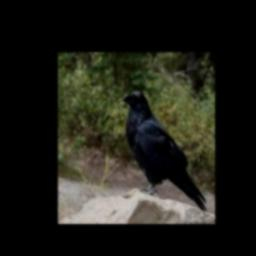Crow: (122, 90, 207, 212)
